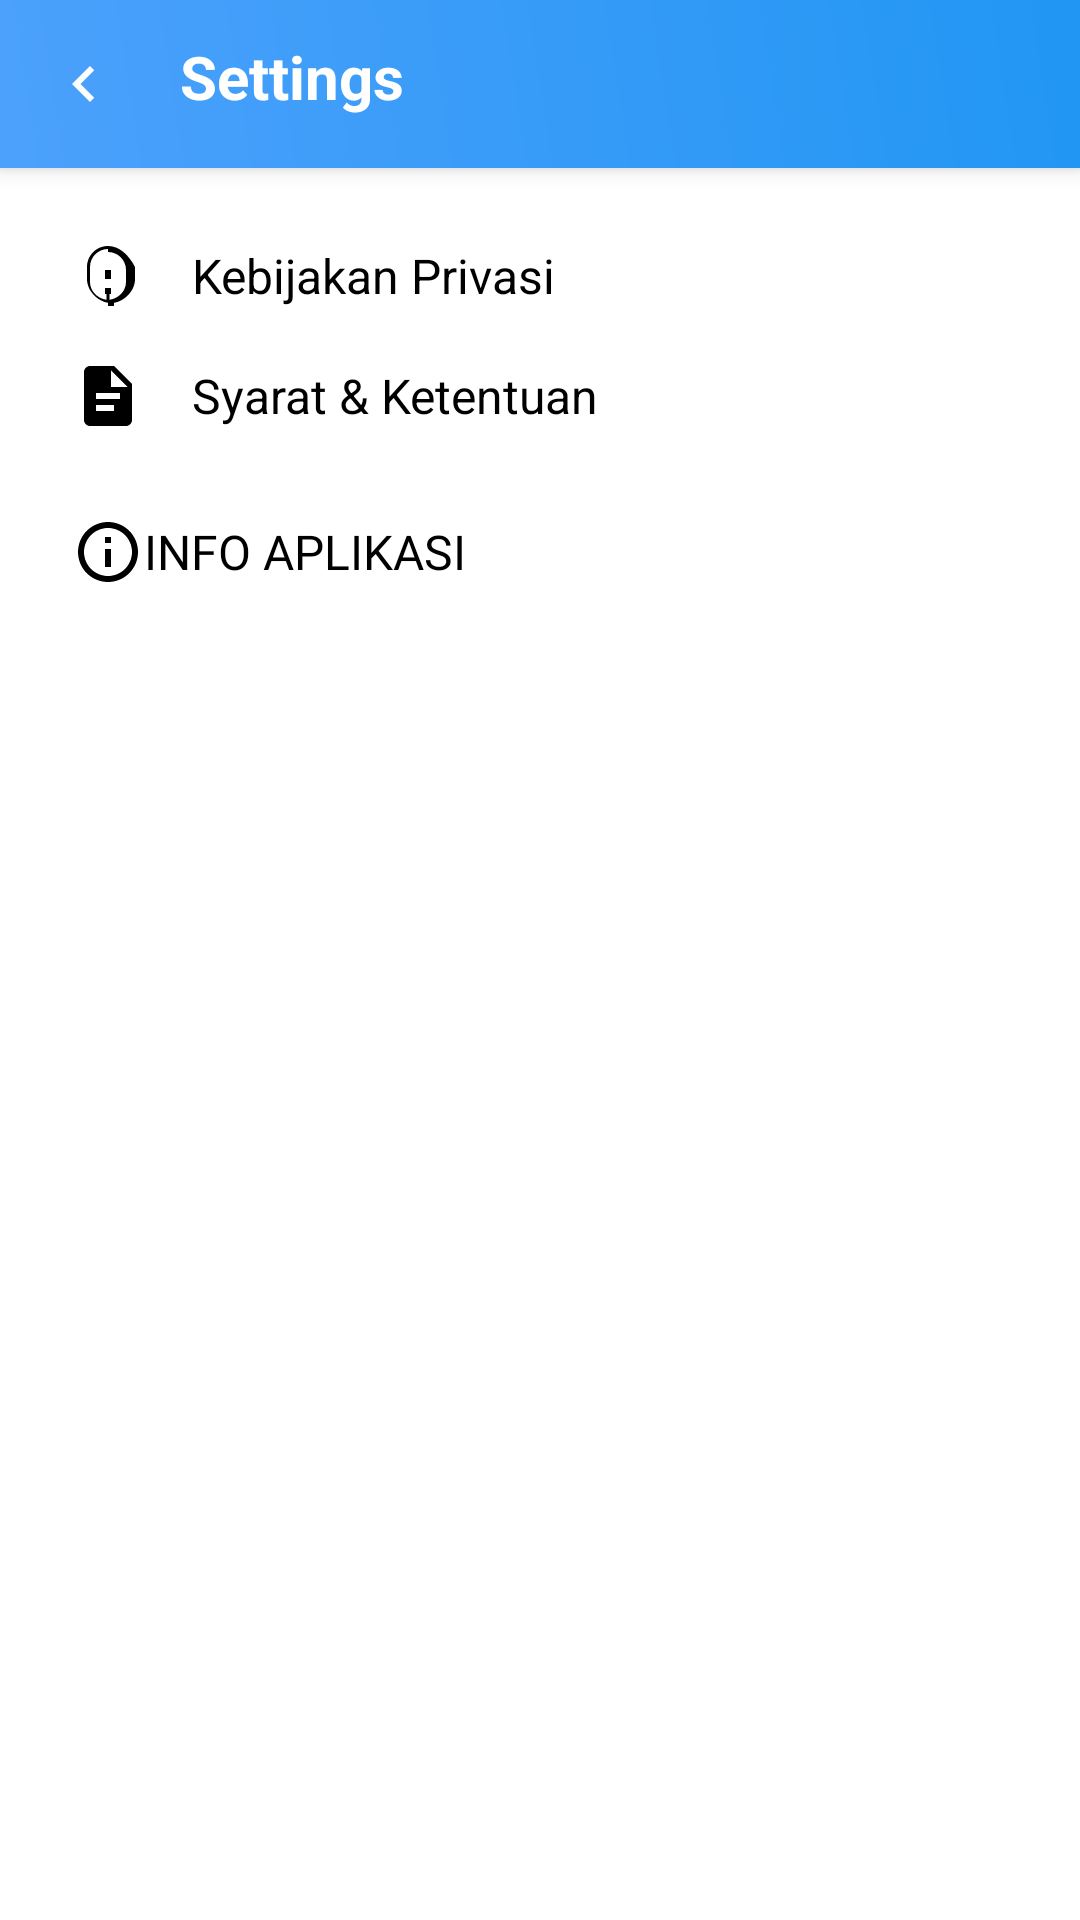

Icon bounding boxes for this 1080px x 1920px phone screenshot, format (x1, y1, x2, y2):
Kembali: (72, 66, 94, 102)
terms: (84, 366, 132, 426)
